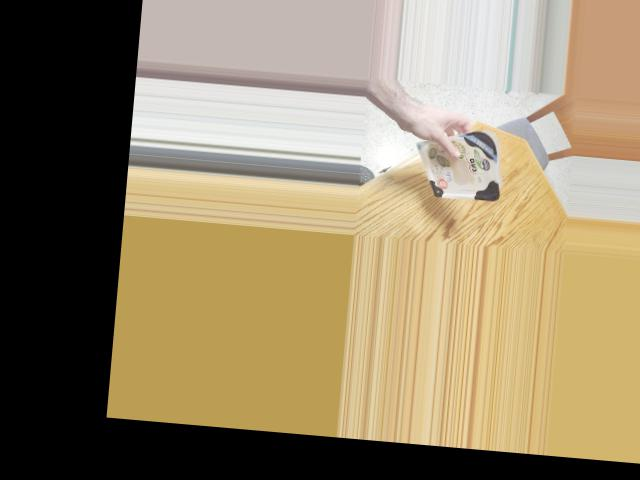cheese: (419, 137, 506, 195)
